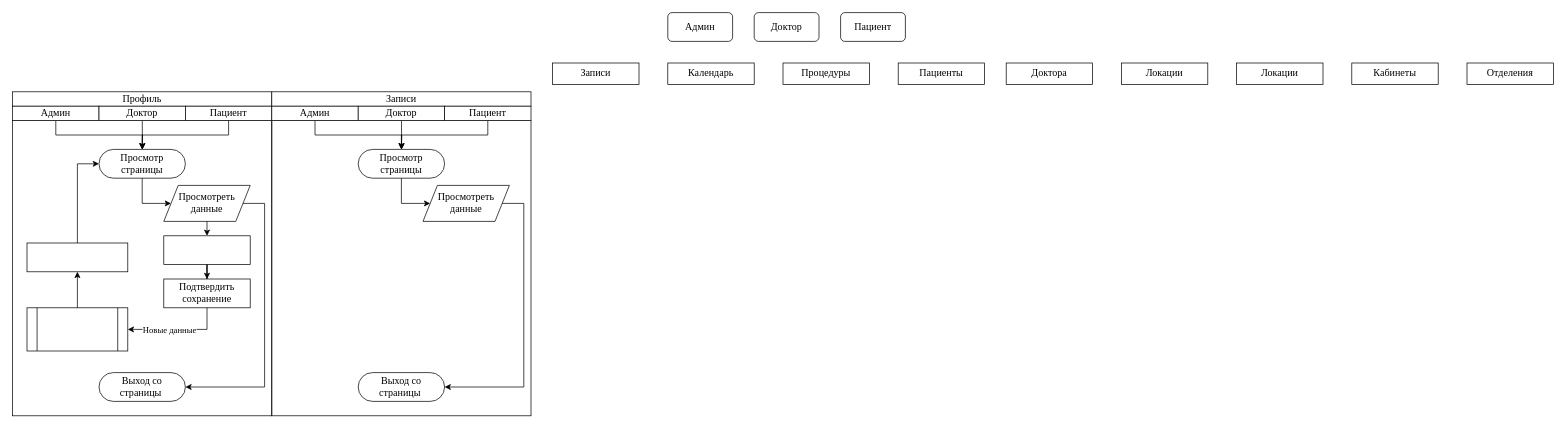
Image size: 1566x428. Some labels were removed from this diagram. Here are the shapes that lost their labels. From the top down, the centre of each, then its label:
point 77,257: Обновление данных
point 206,250: Редактировать профиль
point 77,329: POST запрос на /user
